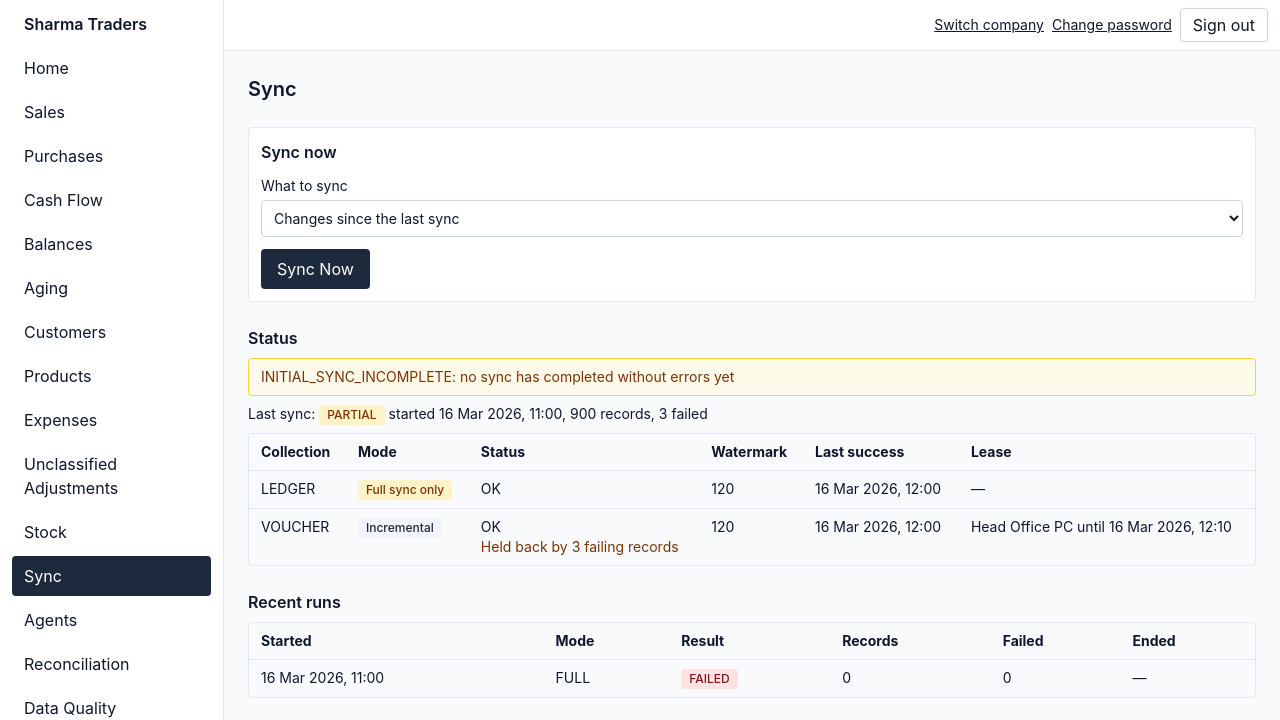
Test: Sync page › shows how a finished command ended, with its error in plain words
What coordinates should you click on to do the following:
click the button "Sync Now"
I would click on:
 (315, 269)
Its box is [261,249,370,289].
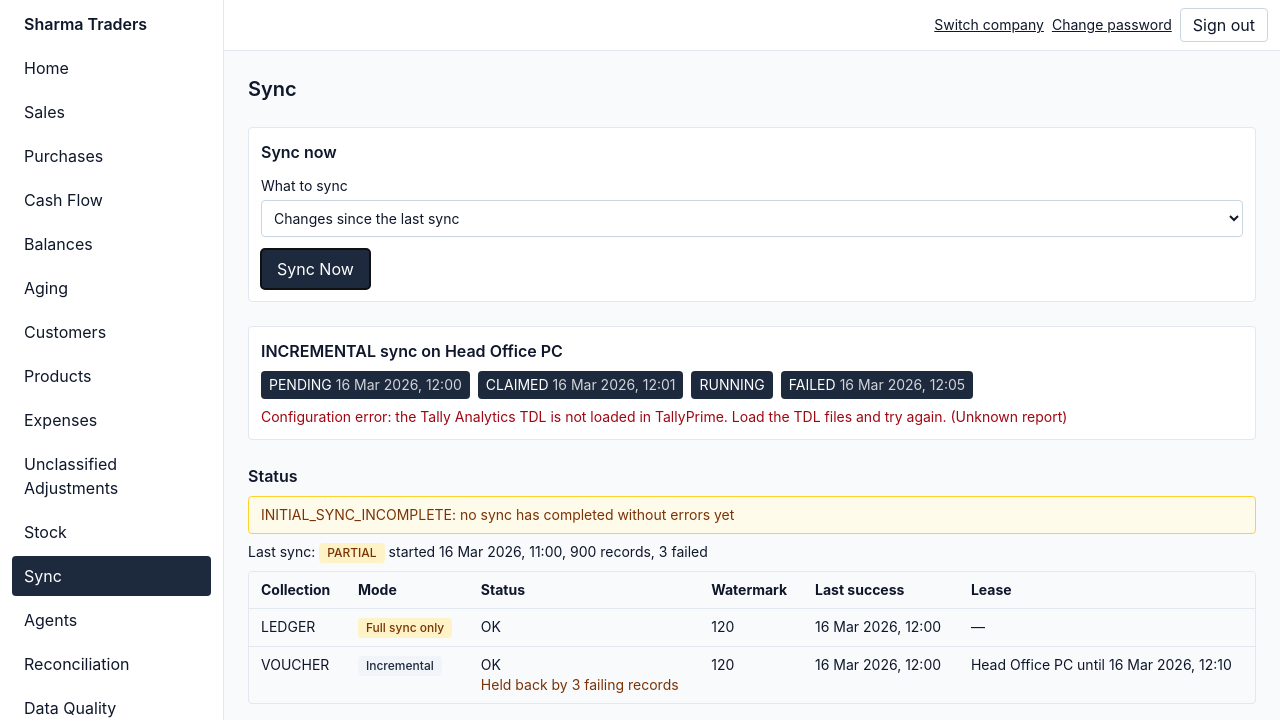
Expected: the list items read "PENDING16 Mar 2026, 12:00", "CLAIMED16 Mar 2026, 12:01", "RUNNING", "FAILED16 Mar 2026, 12:05", in this order, [261,371,470,399]; [478,371,684,399]; [692,371,773,399]; [781,371,973,399]
Expected: the text "TDL is not loaded" shows "(Unknown report)", [946,408,1067,425]
